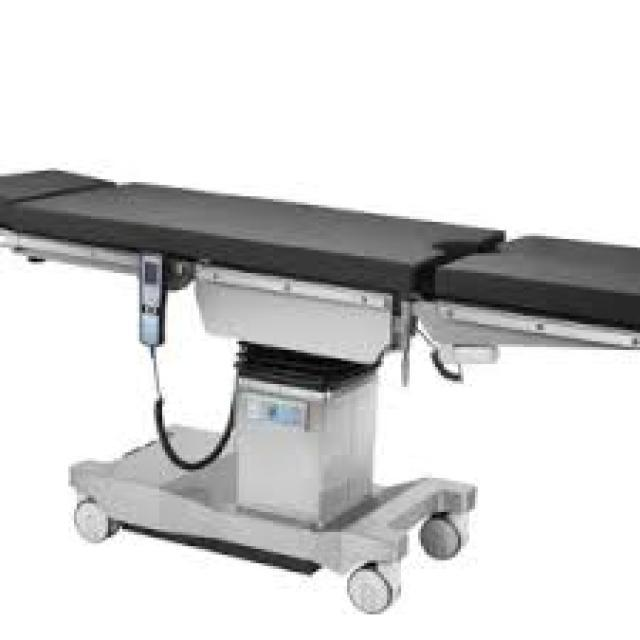bed: (0, 162, 637, 615)
